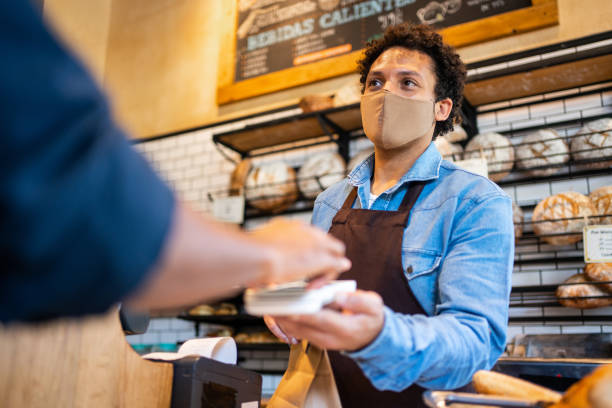with mask: (352, 33, 450, 154)
